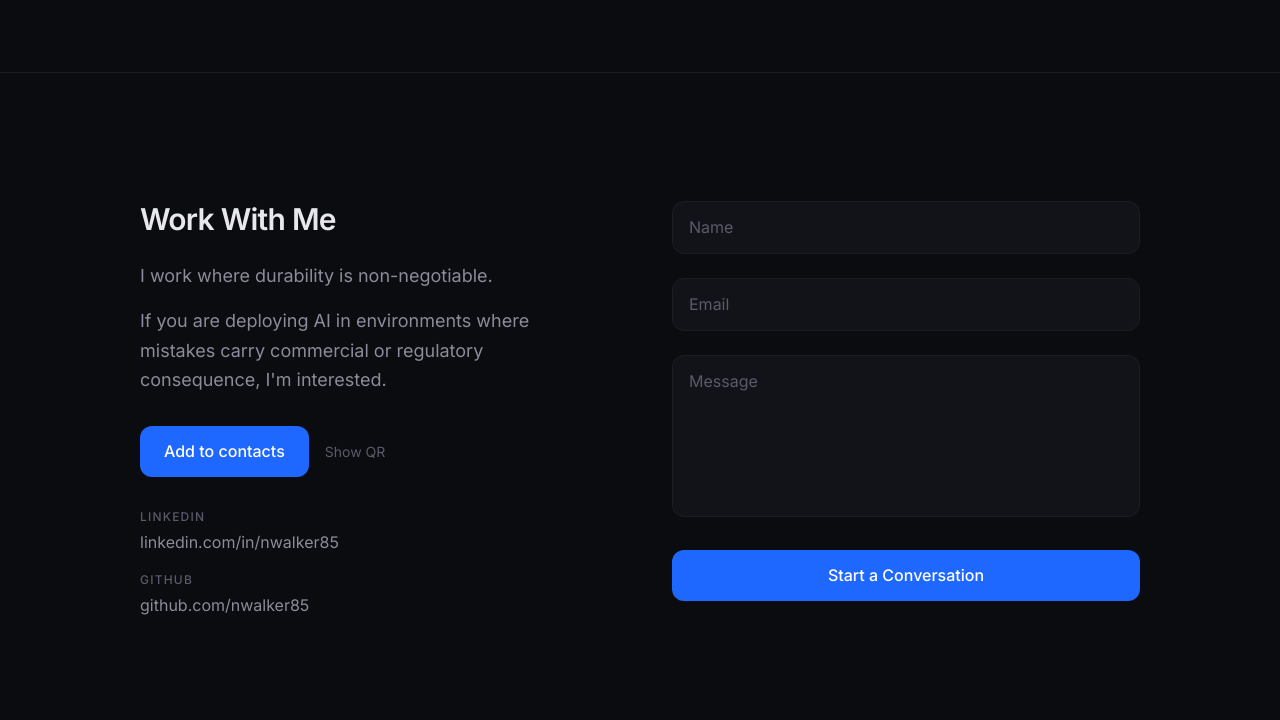
Scenario: ContactSection › POSTs intake JSON with source_property and lane on success
Step 1. Type "Test User" into the field with placeholder "Name" → (906, 228), box [672,201,1140,254]
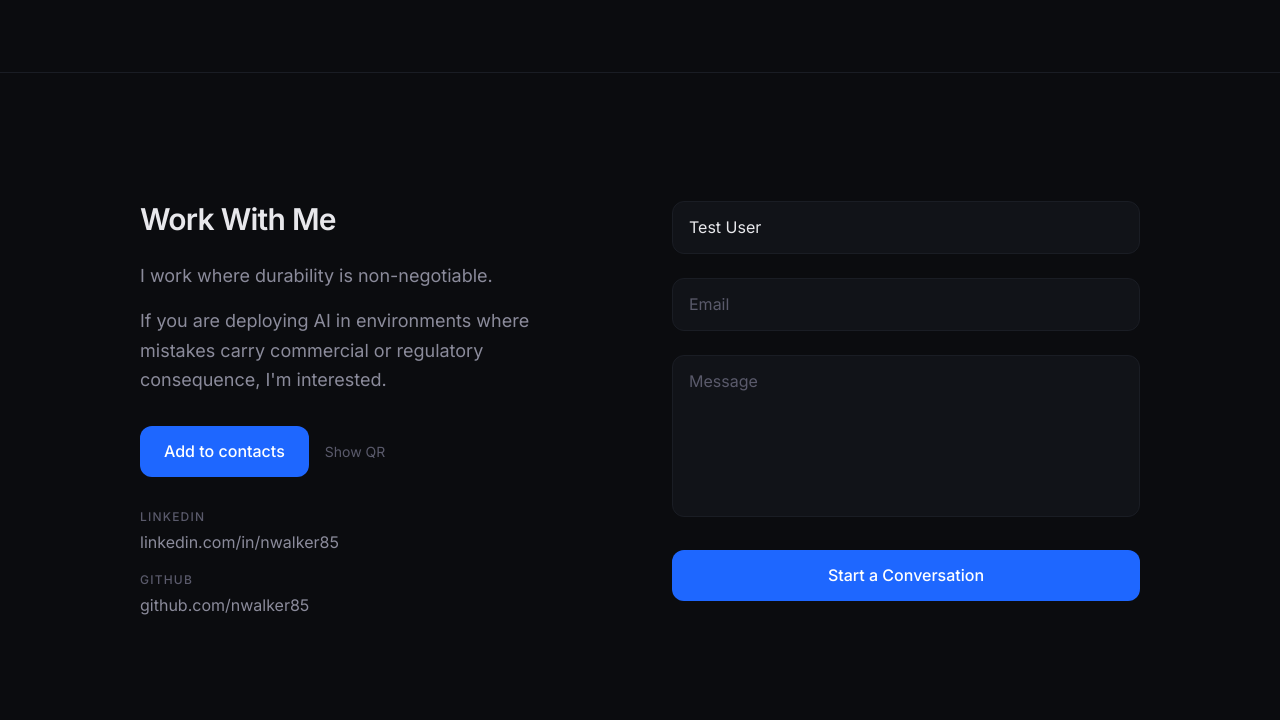
Step 2. Type "test@example.com" into the field with placeholder "Email" → (906, 305), box [672,278,1140,331]
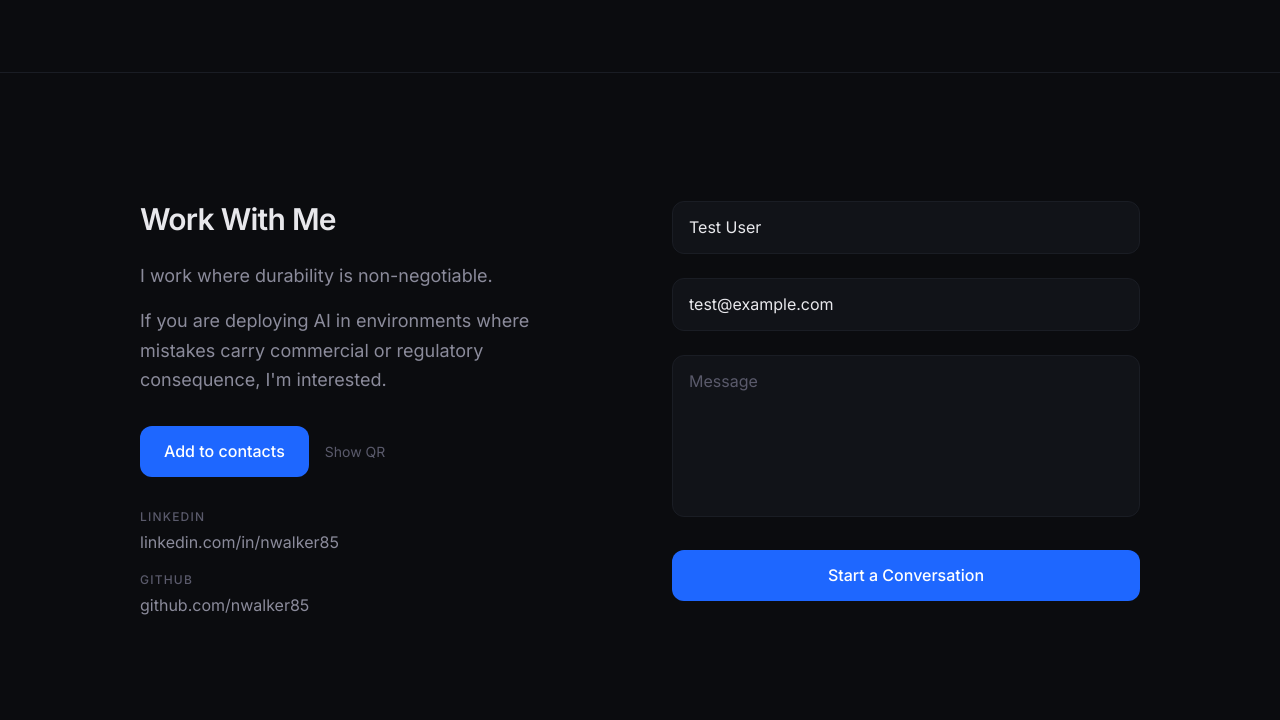
Step 3. Type "Hello" into the text box with placeholder "Message" → (906, 436), box [672,355,1140,517]
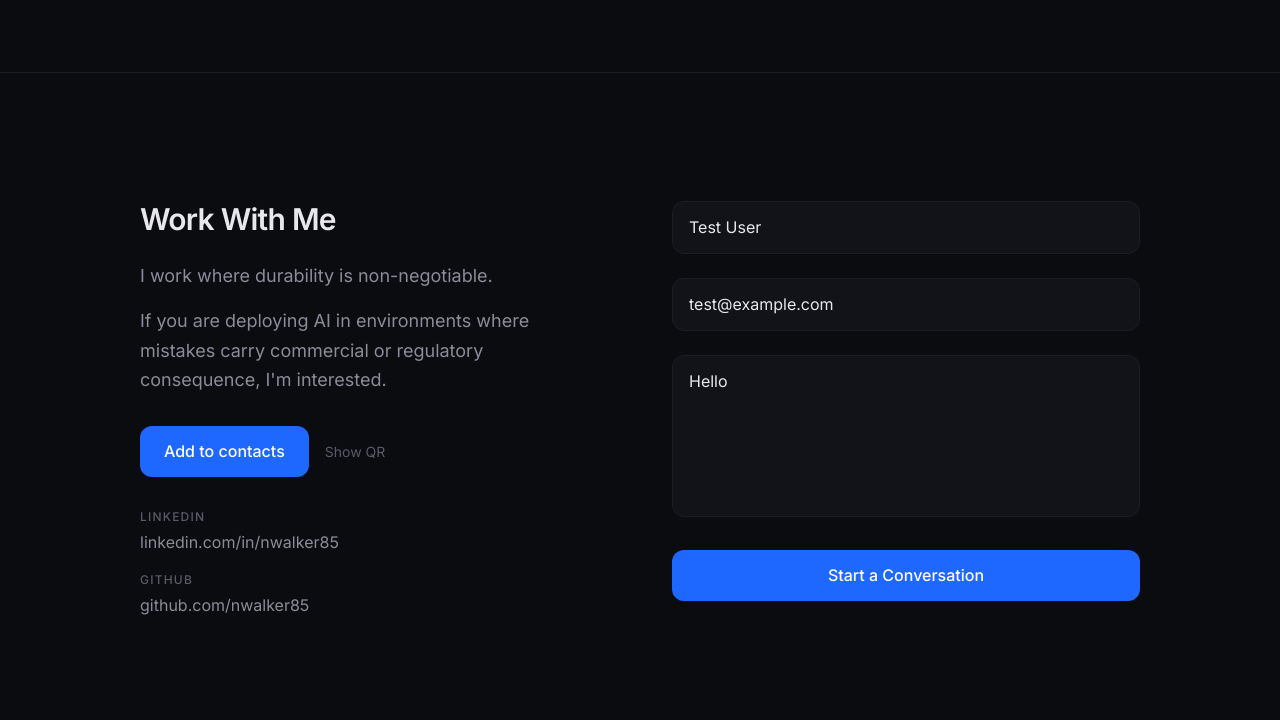
Step 4. Click the button "Start a Conversation" → (906, 575), box [672,550,1140,601]
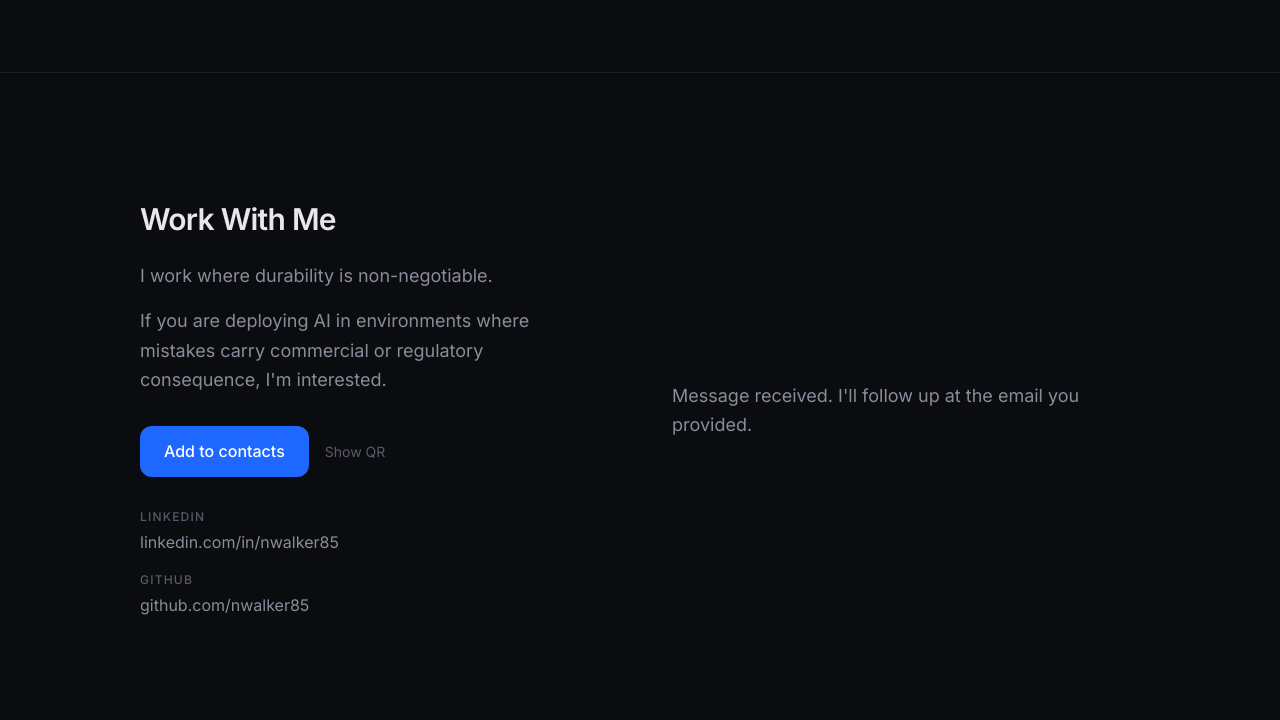
Now the text "Message received. I'll follow up at the email you provided." is shown, box [672,381,1140,440]
